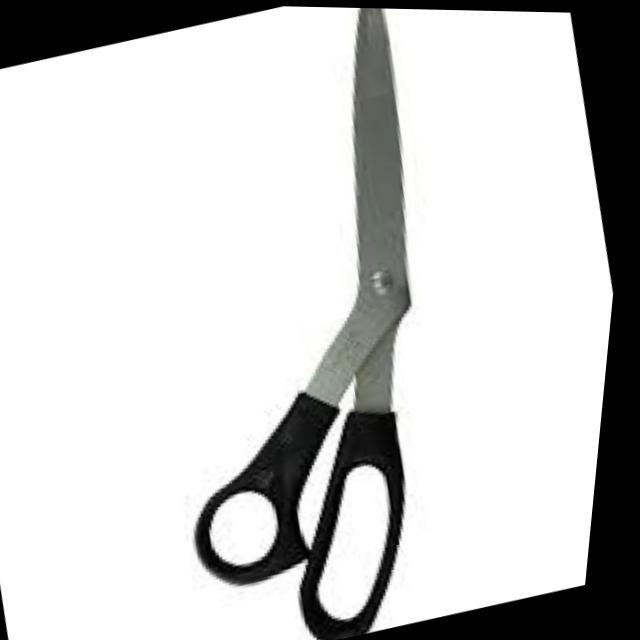scissor: (67, 2, 534, 640)
